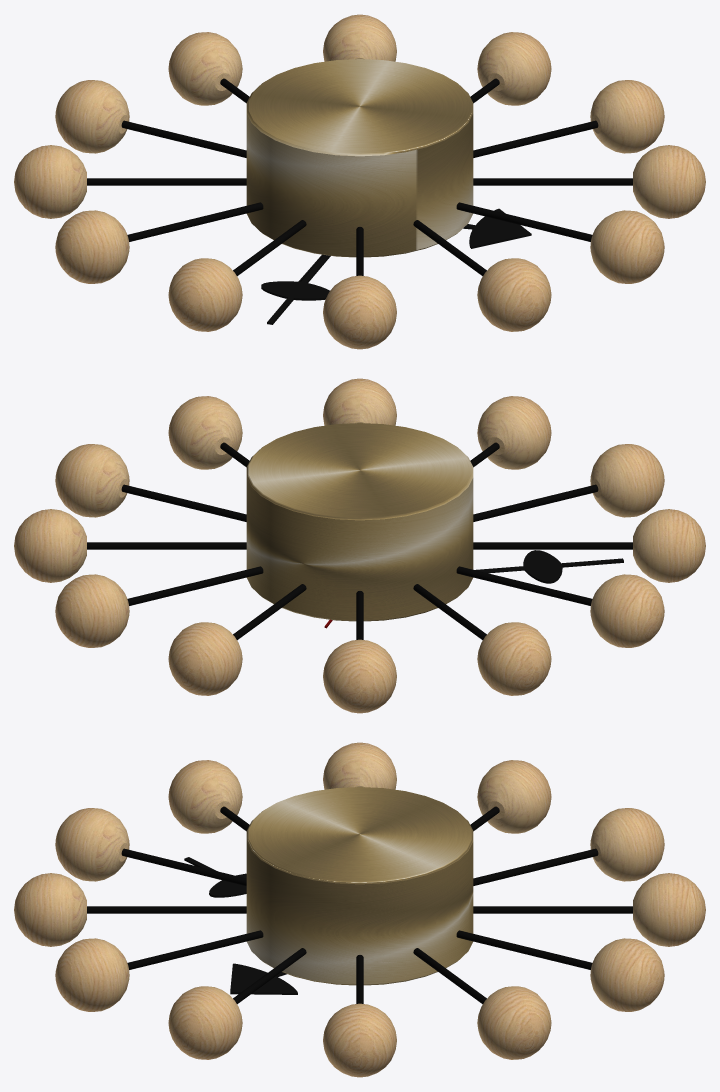
File: vitra_ball_clock_mat(7).obj
3 renders of one model, top to bottom at view 1: azimuth 30°, elevation 25°; view 2: azimuth 150°, elevation 25°; view 3: azimuth 270°, elevation 25°, orthographic.
Parts seen in each view (by area): view 1: vitra_ball_clock_mat7; view 2: vitra_ball_clock_mat7; view 3: vitra_ball_clock_mat7.
Boxes of the visible parts, left/top/right/bottom form: vitra_ball_clock_mat7: left=14, top=14, right=705, bottom=349; vitra_ball_clock_mat7: left=14, top=378, right=705, bottom=713; vitra_ball_clock_mat7: left=14, top=742, right=705, bottom=1077.
Size of the model in its own units: 33.15 by 6.15 by 33.15.
5 materials, 2 textured.
